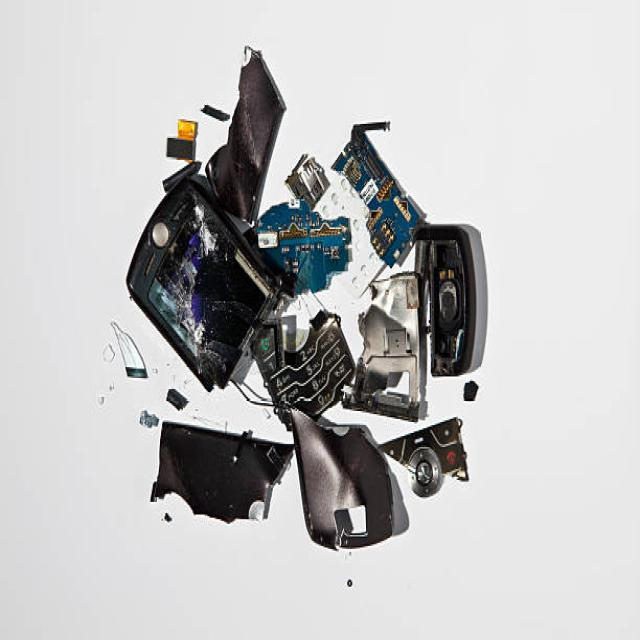metal: (126, 38, 478, 558)
